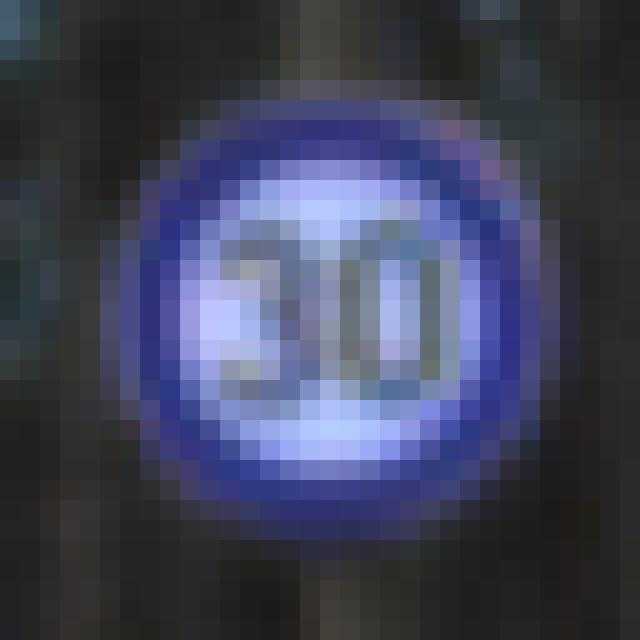SPEED LIMIT 30: (120, 109, 548, 512)
